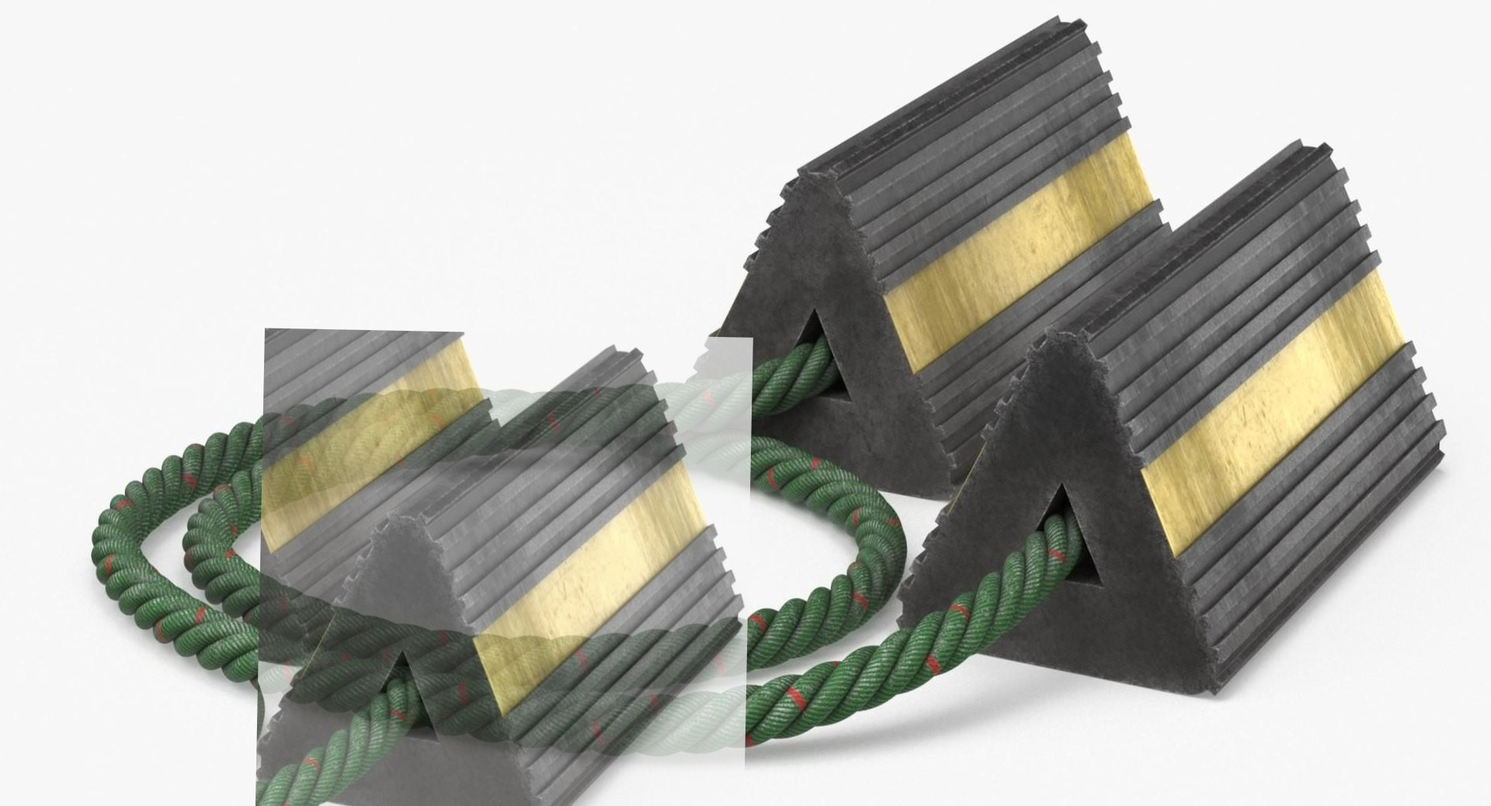chock: (895, 120, 1456, 702), (666, 8, 1178, 509), (255, 328, 753, 806)
